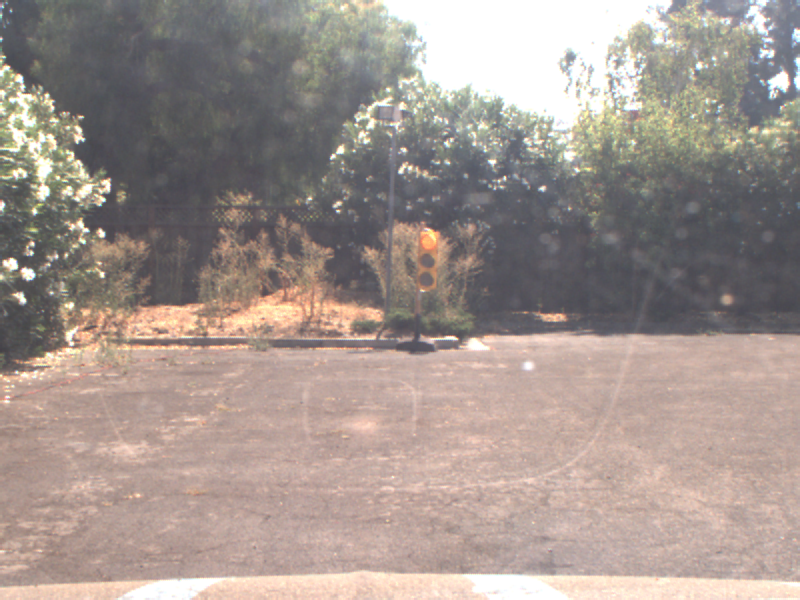red: (416, 227, 440, 291)
